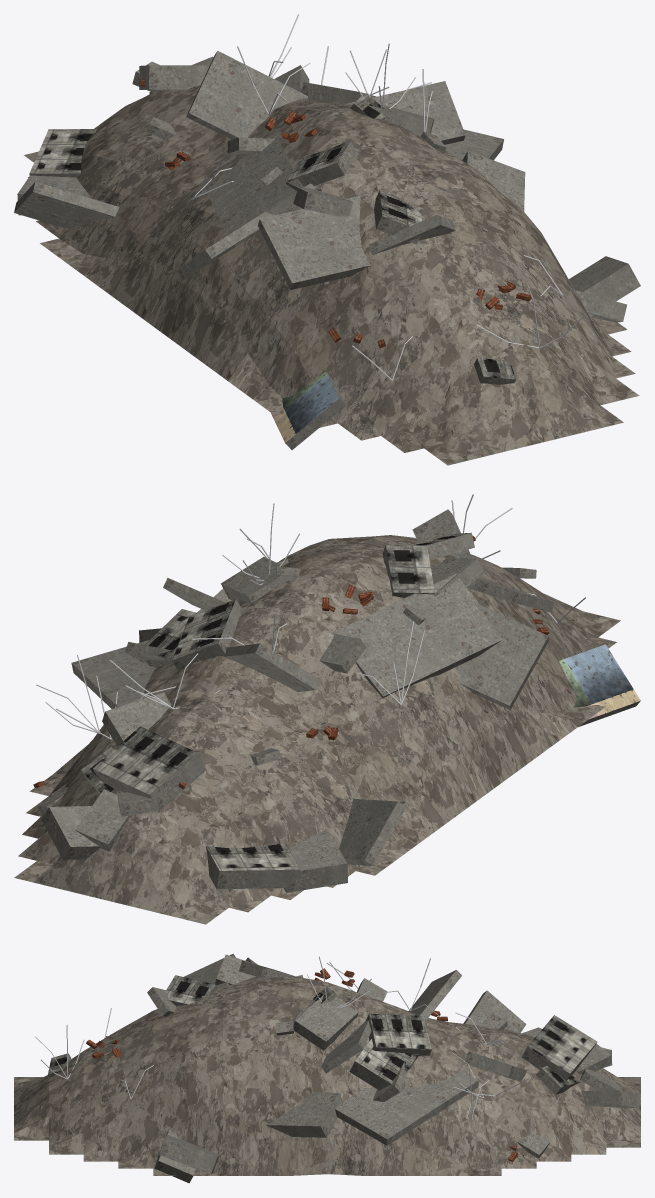
File: S1U_RubbleMound_M.fbx
3 views of the same model, one above another, from view 1: azimuth 30°, elevation 25°; view 2: azimuth 150°, elevation 25°; view 3: azimuth 270°, elevation 25° (orthographic). The views are drawn at different scales.
Parts seen in each view (by area): view 1: S1U_RubbleMound_M; view 2: S1U_RubbleMound_M; view 3: S1U_RubbleMound_M.
Part boxes in pixels (box(x1,y1,x2,y2)): S1U_RubbleMound_M: box(14, 14, 640, 465); S1U_RubbleMound_M: box(14, 494, 640, 924); S1U_RubbleMound_M: box(14, 953, 640, 1183).
Size of the model in its own units: 8.3 by 4.98 by 15.
